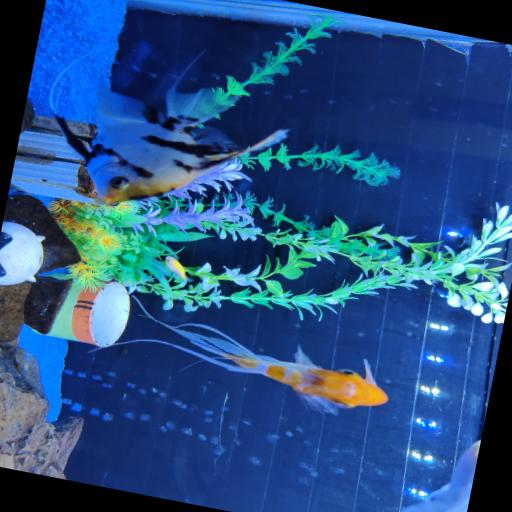Fish: (114, 296, 387, 414), (56, 85, 286, 204), (401, 441, 480, 511), (165, 256, 187, 282)
